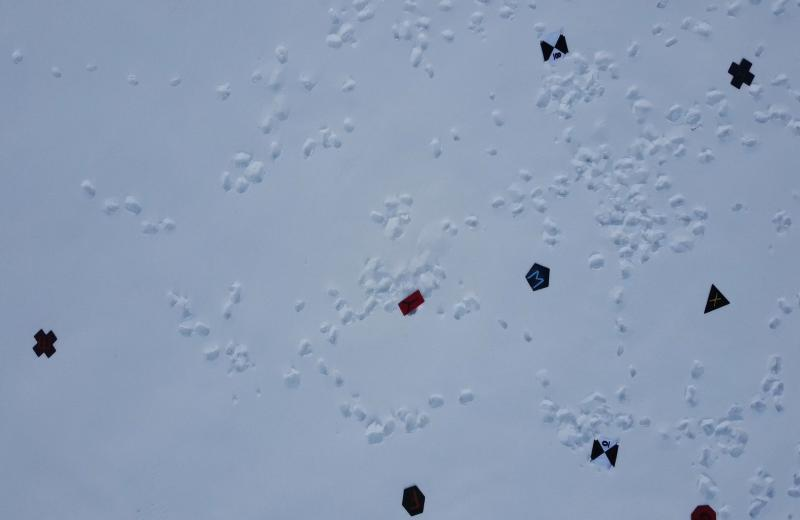Cross: (724, 58, 760, 92), (30, 322, 60, 362)
Hexagon: (401, 484, 427, 517)
Octagon: (689, 502, 723, 520)
Pentagon: (520, 259, 554, 297)
Rectangle: (398, 281, 429, 319)
Triangle: (701, 278, 735, 319)
